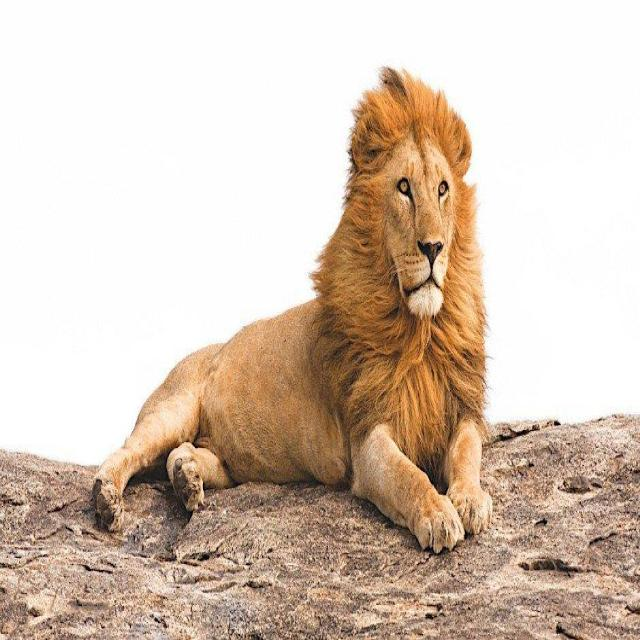Lion: (60, 58, 522, 535)
